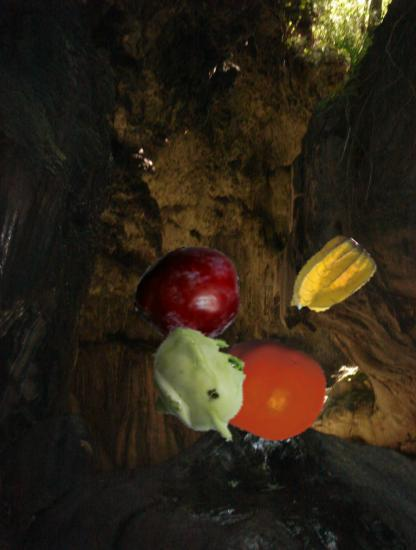Clementine: (211, 330, 328, 447)
Kohlrabi: (137, 323, 264, 450)
Physalis: (285, 234, 376, 325)
Plum: (134, 241, 242, 349)
